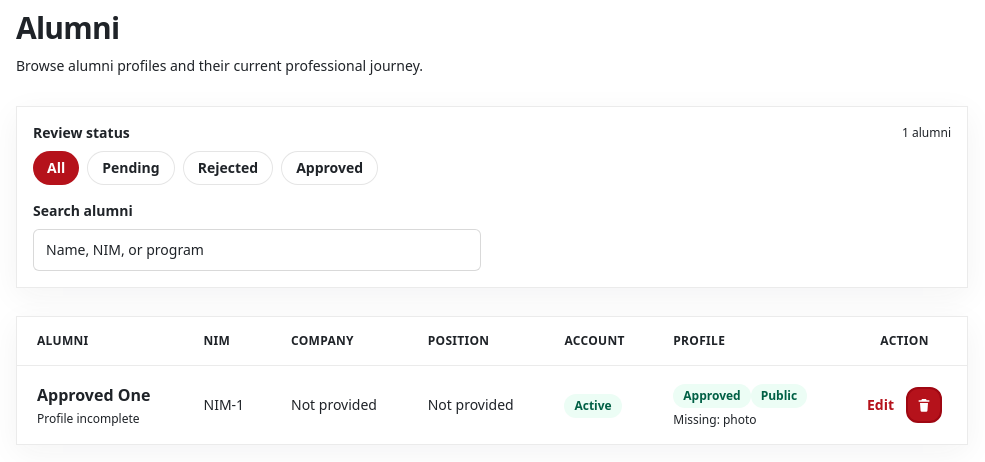
it: Alumni review status filter › shows the rows of the newly selected filter without a full reload
Expected: the text "Approved One" is shown, [37, 383, 164, 407]
Click the button "Rejected". click: click(228, 168)
box: [183, 151, 273, 185]
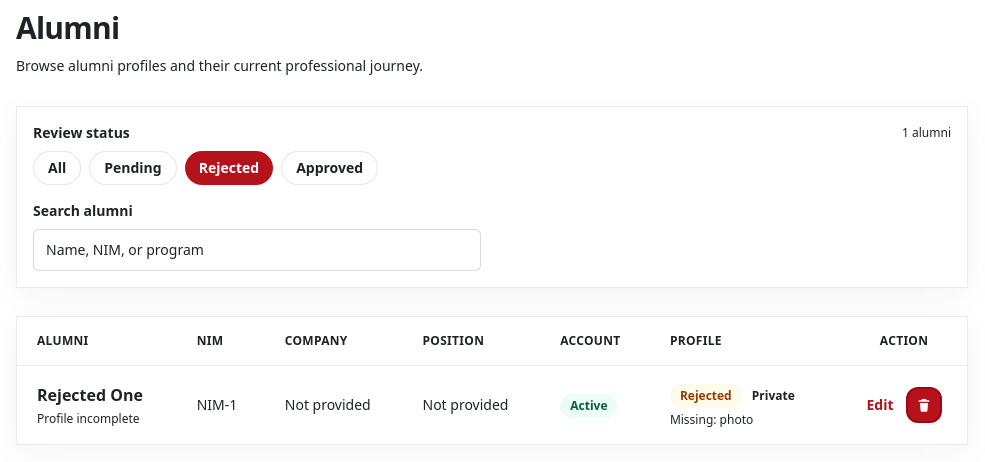
Now the text "Rejected One" is shown, box [37, 383, 157, 407]
Now the text "Approved One" is gone
